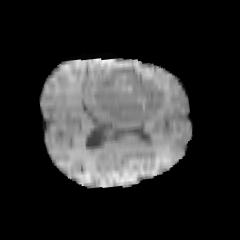glioma: (94, 66, 165, 119)
